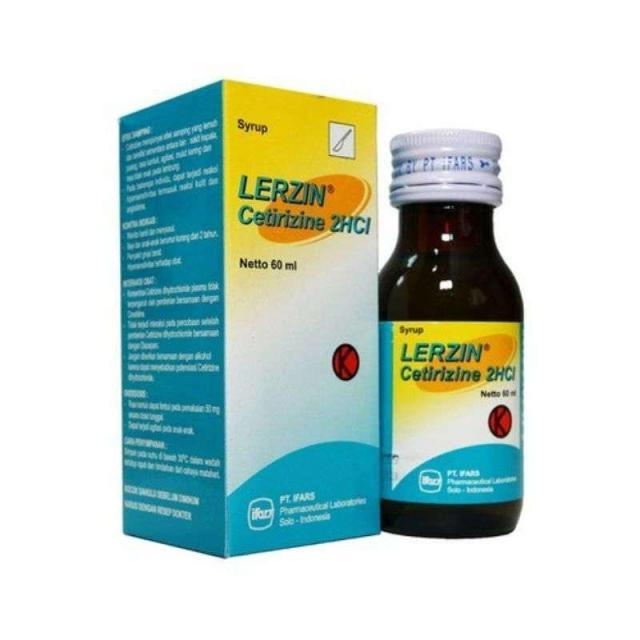drug-name: (237, 173, 327, 208)
